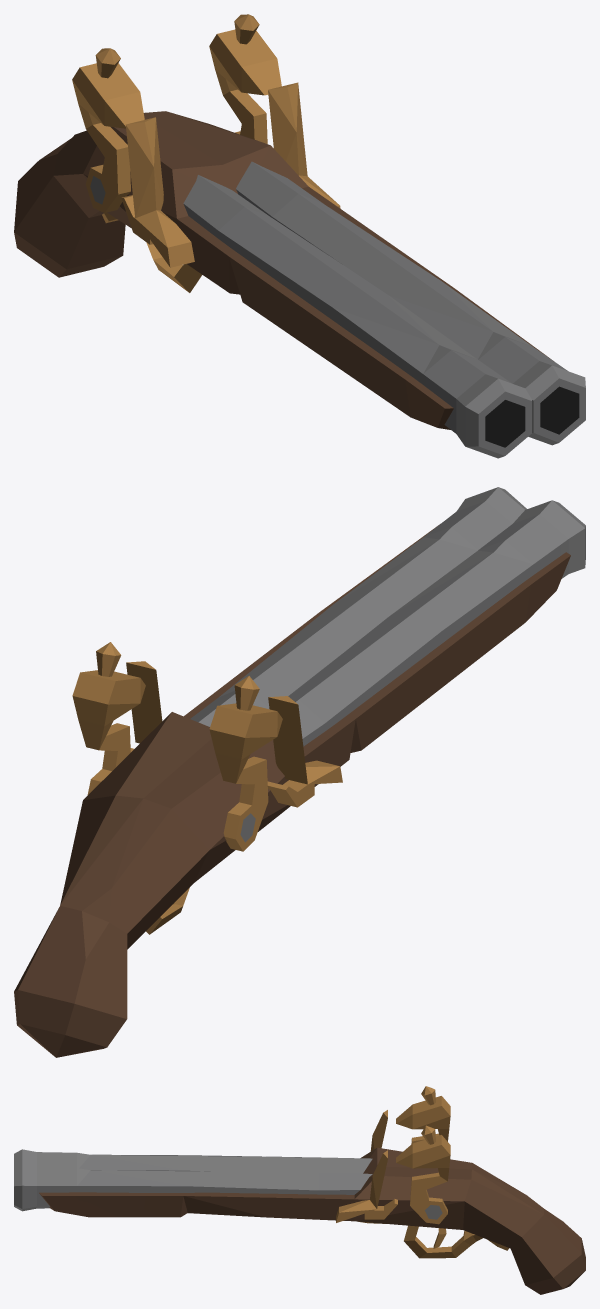
Rendered from SM_Wep_MusketPistol_DoubleBarrel_01.glb.
The picture shows the model from 3 angles, top to bottom: view 1: azimuth 30°, elevation 25°; view 2: azimuth 150°, elevation 25°; view 3: azimuth 270°, elevation 25°; orthographic projection. The views are drawn at different scales.
Parts seen in each view (by area): view 1: SM_Wep_MusketPistol_DoubleBarrel_01; view 2: SM_Wep_MusketPistol_DoubleBarrel_01; view 3: SM_Wep_MusketPistol_DoubleBarrel_01.
Part boxes in pixels (x1,y1,x2,y2): SM_Wep_MusketPistol_DoubleBarrel_01: (14,14,585,458); SM_Wep_MusketPistol_DoubleBarrel_01: (14,487,585,1057); SM_Wep_MusketPistol_DoubleBarrel_01: (14,1086,585,1294).
Size of the model in its own units: 0.00142 by 0.00246 by 0.00698.
